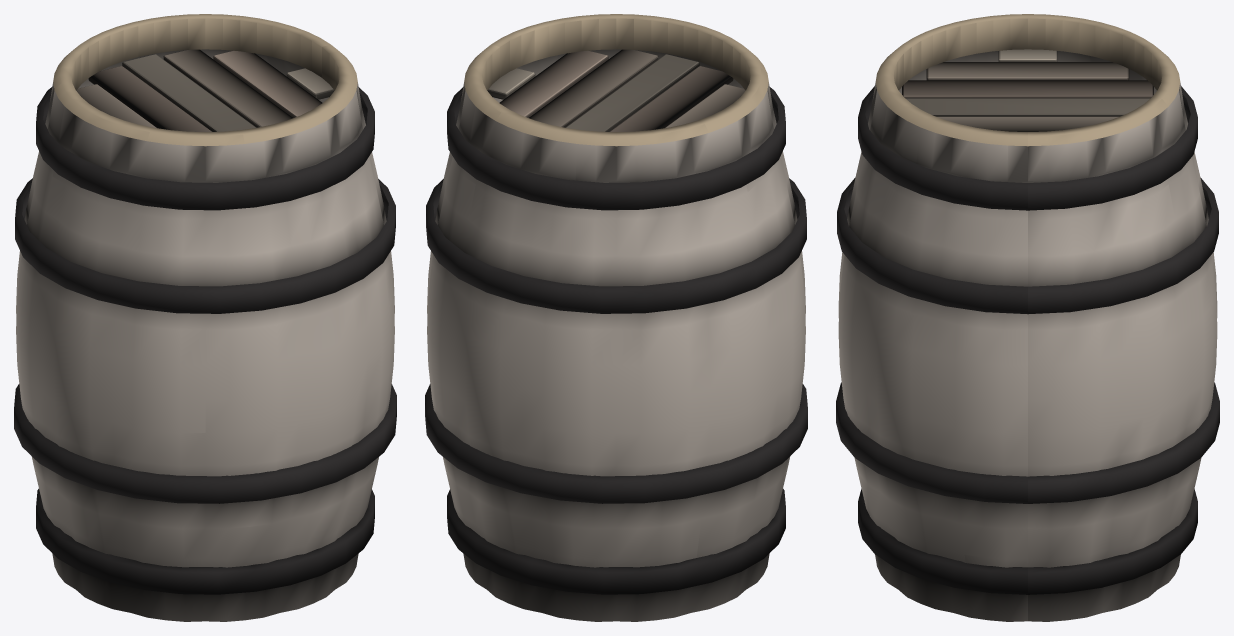
The model's file is HeroBarrel_0.fbx.
3 views of the same model, side by side, from view 1: azimuth 30°, elevation 25°; view 2: azimuth 150°, elevation 25°; view 3: azimuth 270°, elevation 25° (orthographic).
Visible parts, largest first — view 1: HeroBarrel_0__Wood, HeroBarrel_0__Paint; view 2: HeroBarrel_0__Wood, HeroBarrel_0__Paint; view 3: HeroBarrel_0__Wood, HeroBarrel_0__Paint.
Boxes of the visible parts, <box> form: HeroBarrel_0__Wood: <box>16,14,394,621</box>; HeroBarrel_0__Paint: <box>14,87,396,594</box>; HeroBarrel_0__Wood: <box>427,14,805,621</box>; HeroBarrel_0__Paint: <box>425,87,807,594</box>; HeroBarrel_0__Wood: <box>838,14,1217,621</box>; HeroBarrel_0__Paint: <box>836,86,1219,594</box>.
Size of the model in its own units: 0.6427 by 0.892 by 0.6427.
